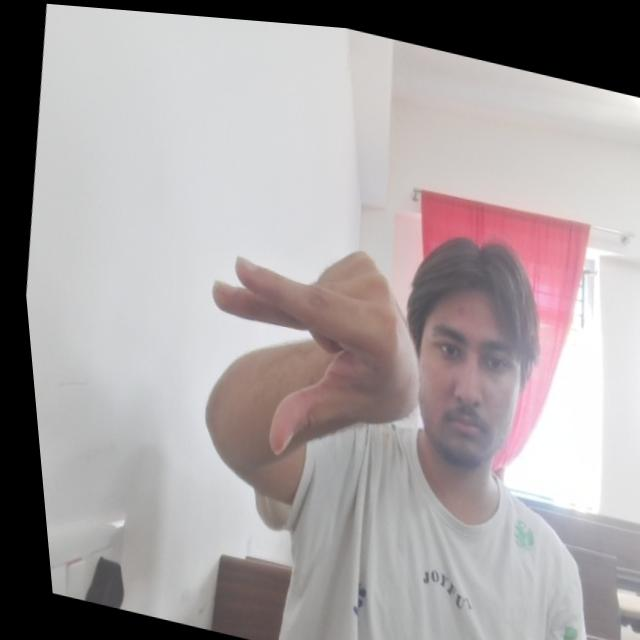no: (171, 209, 443, 486)
